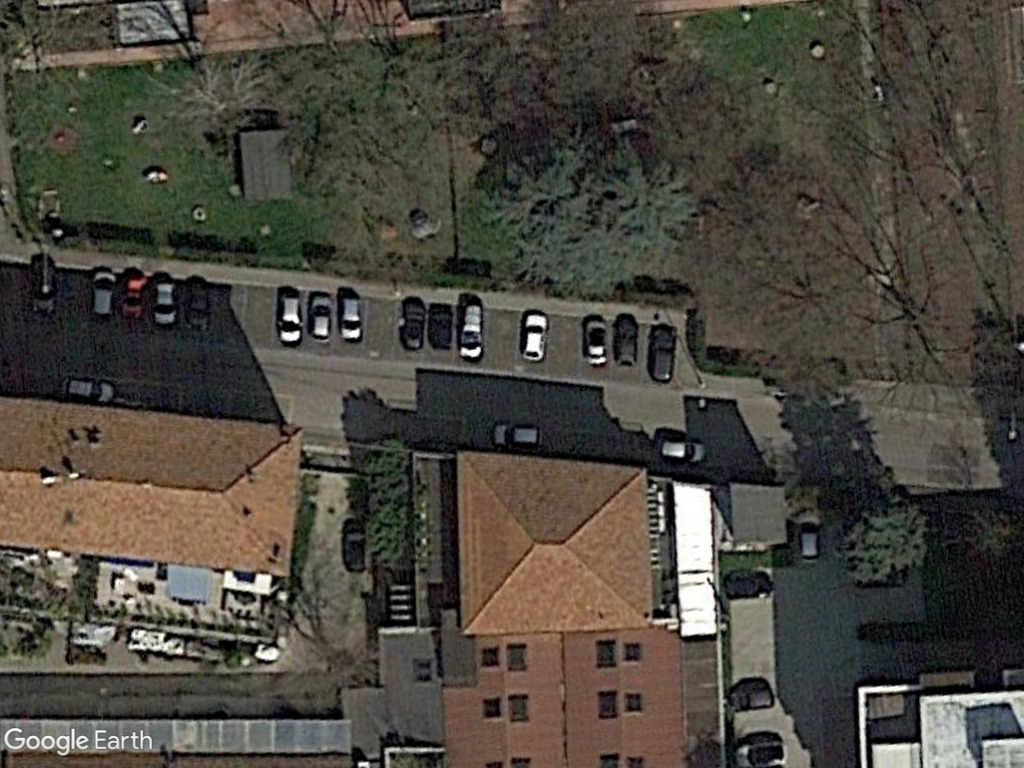car: (54, 372, 118, 407), (792, 506, 827, 568), (486, 420, 550, 453), (273, 286, 306, 350), (645, 325, 678, 384), (87, 265, 120, 324), (516, 310, 551, 365), (655, 431, 710, 465), (580, 312, 612, 370), (305, 289, 336, 346), (731, 739, 791, 768), (151, 276, 181, 330), (120, 271, 150, 324), (337, 295, 365, 345)
other: (453, 299, 487, 365), (400, 298, 427, 353)
